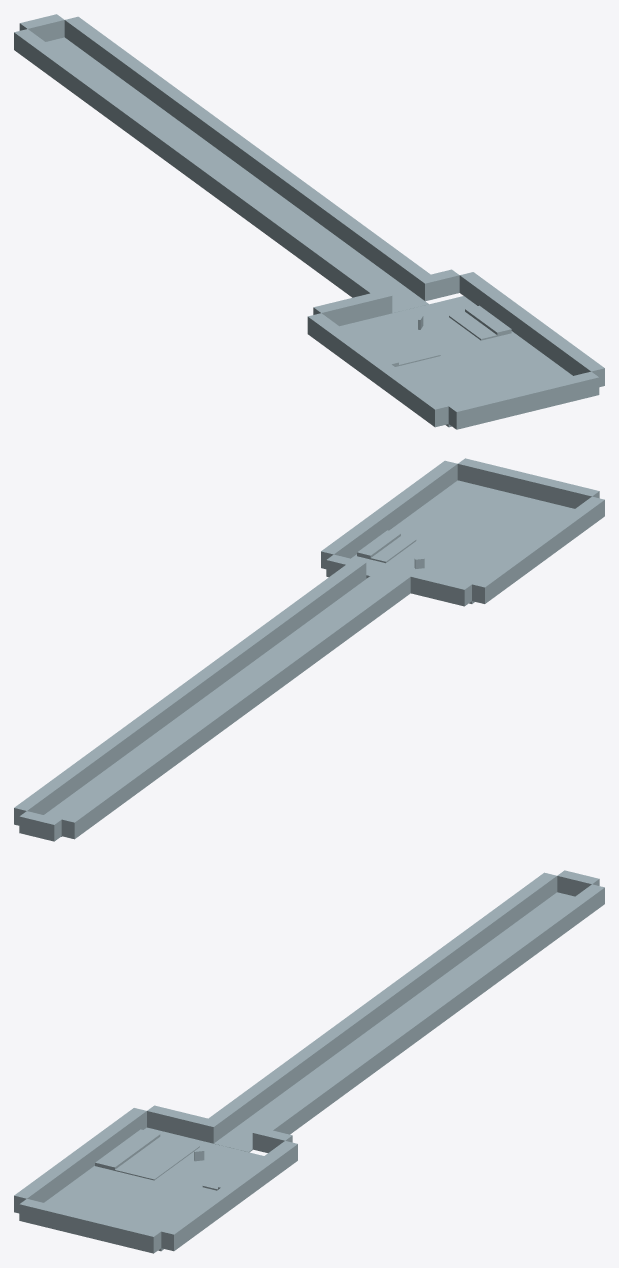
3 renders of one model, top to bottom at view 1: azimuth 30°, elevation 25°; view 2: azimuth 150°, elevation 25°; view 3: azimuth 330°, elevation 25°, orthographic. The views are drawn at different scales.
Visible parts, largest first — view 1: COL_LaneL, COL_LaneR, COL_HubFloor, COL_LaneFloor, COL_HubL, COL_HubR, COL_Back, COL_TerraceA_Apron, COL_FrontL, COL_FrontR, COL_LaneEnd, COL_TerraceB_Rim (+1 smaller); view 2: COL_LaneL, COL_LaneR, COL_HubFloor, COL_LaneFloor, COL_HubL, COL_HubR, COL_Back, COL_FrontL, COL_TerraceA_Apron, COL_LaneEnd, COL_TerraceB_Rim, COL_TerraceB_Shelf; view 3: COL_LaneL, COL_LaneR, COL_HubFloor, COL_LaneFloor, COL_HubR, COL_Back, COL_HubL, COL_TerraceA_Apron, COL_FrontL, COL_TerraceA_Shelf, COL_LaneEnd, COL_FrontR.
Boxes of the visible parts, left/top/right/bottom form: COL_LaneL: left=14, top=29, right=391, bottom=316; COL_LaneR: left=64, top=16, right=438, bottom=300; COL_HubFloor: left=340, top=296, right=572, bottom=427; COL_LaneFloor: left=46, top=37, right=428, bottom=313; COL_HubL: left=307, top=313, right=448, bottom=427; COL_HubR: left=459, top=272, right=604, bottom=387; COL_Back: left=448, top=371, right=599, bottom=429; COL_TerraceA_Apron: left=353, top=319, right=440, bottom=365; COL_FrontL: left=313, top=290, right=392, bottom=326; COL_FrontR: left=417, top=269, right=459, bottom=301; COL_LaneEnd: left=19, top=14, right=64, bottom=41; COL_TerraceB_Rim: left=449, top=312, right=511, bottom=340; COL_LaneL: left=61, top=568, right=417, bottom=839; COL_LaneR: left=14, top=560, right=366, bottom=825; COL_HubFloor: left=351, top=480, right=574, bottom=603; COL_LaneFloor: left=44, top=576, right=387, bottom=836; COL_HubL: left=472, top=496, right=604, bottom=603; COL_HubR: left=321, top=460, right=457, bottom=569; COL_Back: left=457, top=458, right=599, bottom=508; COL_FrontL: left=398, top=568, right=471, bottom=606; COL_TerraceA_Apron: left=428, top=547, right=501, bottom=582; COL_LaneEnd: left=19, top=811, right=61, bottom=841; COL_TerraceB_Rim: left=357, top=536, right=416, bottom=563; COL_TerraceB_Shelf: left=357, top=530, right=400, bottom=558; COL_LaneL: left=200, top=872, right=557, bottom=1143; COL_LaneR: left=252, top=884, right=604, bottom=1151; COL_HubFloor: left=44, top=1127, right=263, bottom=1251; COL_LaneFloor: left=214, top=892, right=574, bottom=1152; COL_HubR: left=161, top=1141, right=297, bottom=1251; COL_Back: left=19, top=1199, right=161, bottom=1253; COL_HubL: left=14, top=1108, right=146, bottom=1213; COL_TerraceA_Apron: left=115, top=1136, right=199, bottom=1180; COL_FrontL: left=147, top=1105, right=220, bottom=1143; COL_TerraceA_Shelf: left=95, top=1129, right=160, bottom=1170; COL_LaneEnd: left=557, top=870, right=599, bottom=896; COL_FrontR: left=252, top=1127, right=292, bottom=1152.
Bounding box in the file's own units: 21100 × 2500 × 109200.
